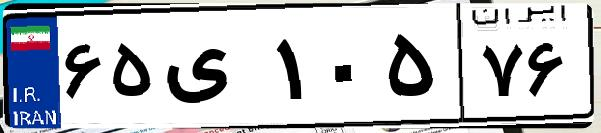0: (330, 28, 385, 110)
1: (270, 28, 330, 110)
5: (385, 28, 445, 110), (110, 28, 158, 98)
6: (57, 26, 110, 100), (525, 38, 570, 115)
7: (475, 38, 525, 113)
ی: (158, 20, 270, 120)
